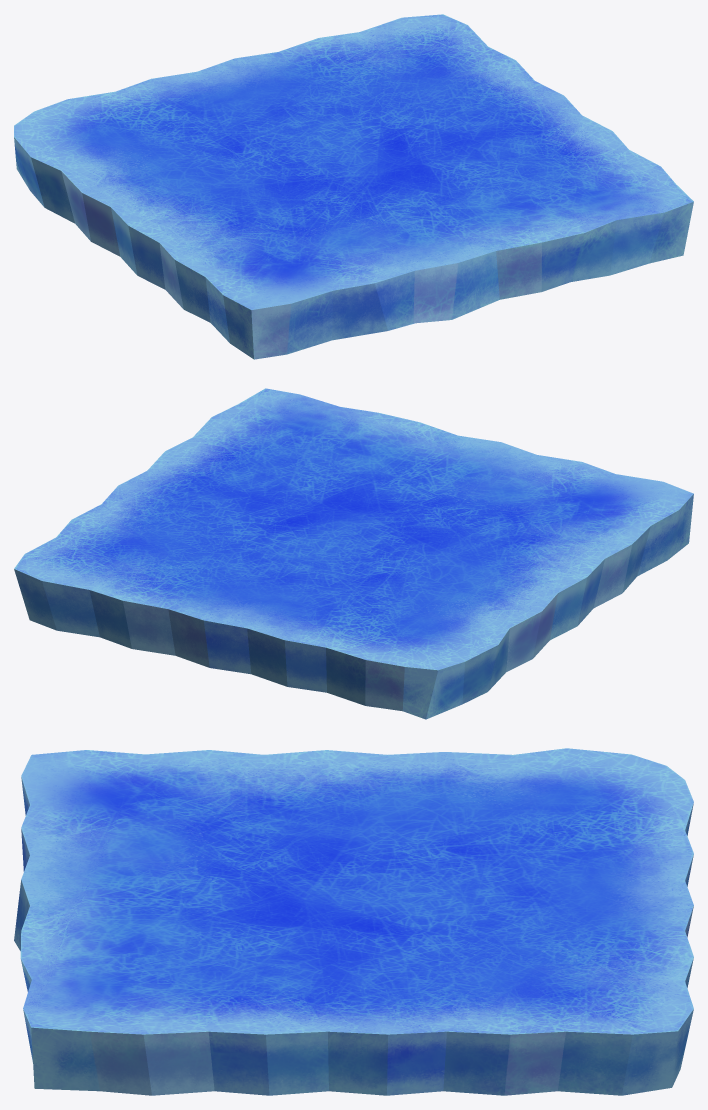
File: IcePlatform_Version2_Square.fbx
3 renders of one model, top to bottom at view 1: azimuth 30°, elevation 25°; view 2: azimuth 150°, elevation 25°; view 3: azimuth 270°, elevation 25°, orthographic. The views are drawn at different scales.
Parts seen in each view (by area): view 1: Square Platform seamless - environment; view 2: Square Platform seamless - environment; view 3: Square Platform seamless - environment.
Boxes of the visible parts, x1,y1,x2,y2 form: Square Platform seamless - environment: (14, 14, 693, 359); Square Platform seamless - environment: (14, 388, 693, 719); Square Platform seamless - environment: (14, 748, 693, 1095).
Bounding box in the file's own units: 91.84 × 9.99 × 92.17.
